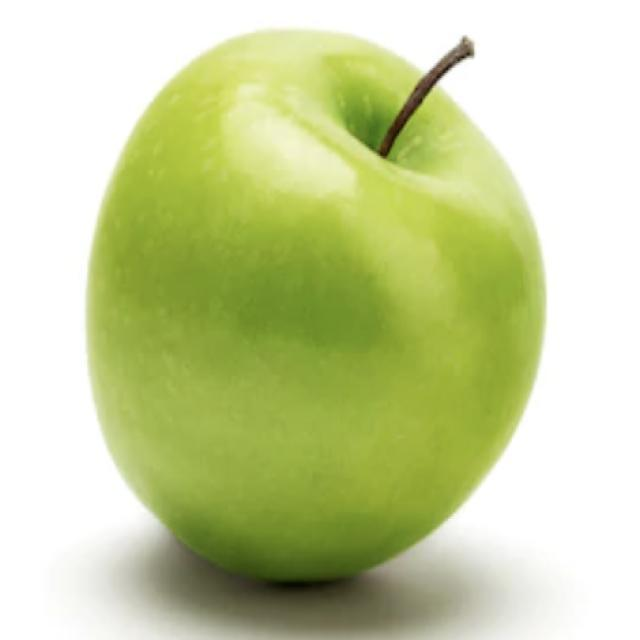Fresh Apple: (76, 11, 540, 640)
